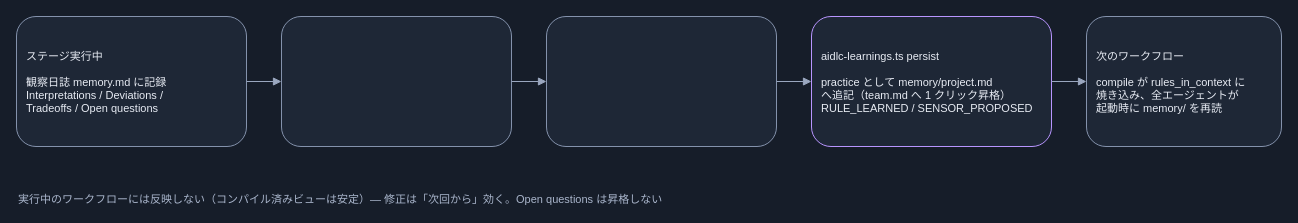
Some shapes in this 1298 by 223 pixel diagram are drawn without their labels. Here are the shapes that lost their labels. From the top down, the centre of each, then its label:
pixel 396 81: 承認ゲート直前（§13） aidlc-learnings.ts surface 非空の日誌行を候補として そのまま提示（読み取り専用）
pixel 661 81: ユーザーが確定 残す学びを選択。 org.md との矛盾は着地前に 検出され revise / skip / 昇格
